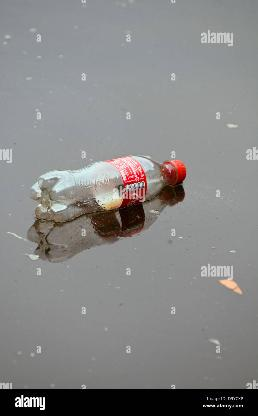Plastic Bottle: (22, 154, 224, 228)
